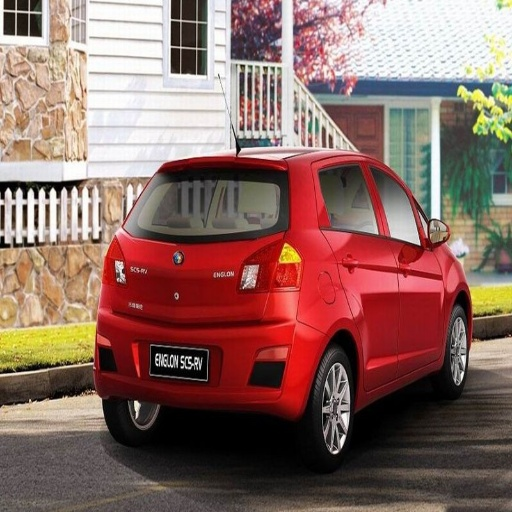back_bumper: (94, 297, 323, 412)
back_glass: (146, 182, 193, 227)
back_right_door: (318, 159, 398, 386)
trunk: (111, 228, 295, 348)
